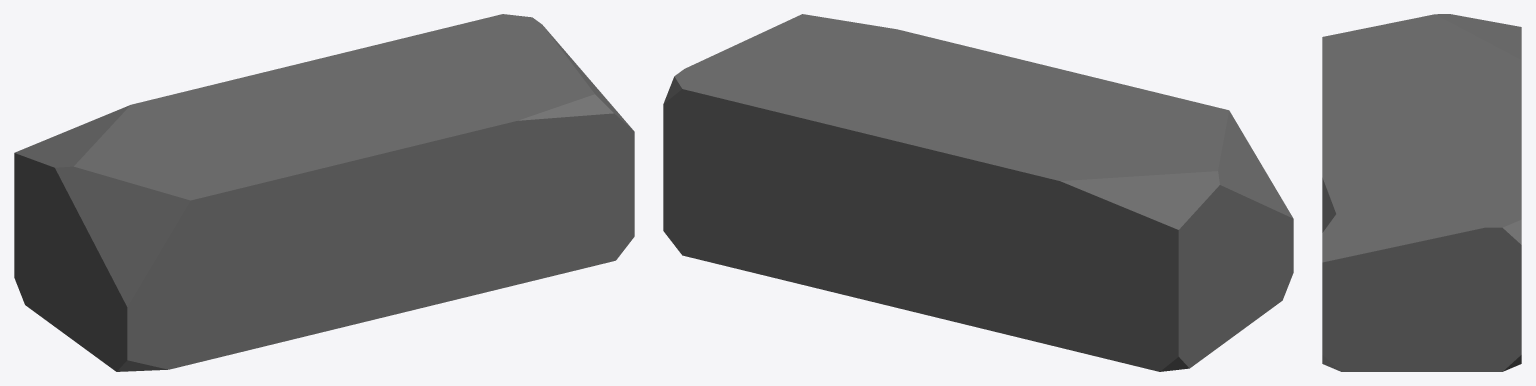
The model's file is Brick_05.fbx.
The picture shows the model from 3 angles, left to right: view 1: azimuth 30°, elevation 25°; view 2: azimuth 150°, elevation 25°; view 3: azimuth 270°, elevation 25°; orthographic projection. The views are drawn at different scales.
Parts seen in each view (by area): view 1: Brick_05_LOD0; view 2: Brick_05_LOD0; view 3: Brick_05_LOD0.
Boxes of the visible parts, x1=… form: Brick_05_LOD0: x1=14, y1=14, x2=634, y2=371; Brick_05_LOD0: x1=663, y1=14, x2=1293, y2=371; Brick_05_LOD0: x1=1322, y1=14, x2=1521, y2=371.
Size of what is drawn, in the model's own units: 1.51 by 0.4674 by 0.5847.
